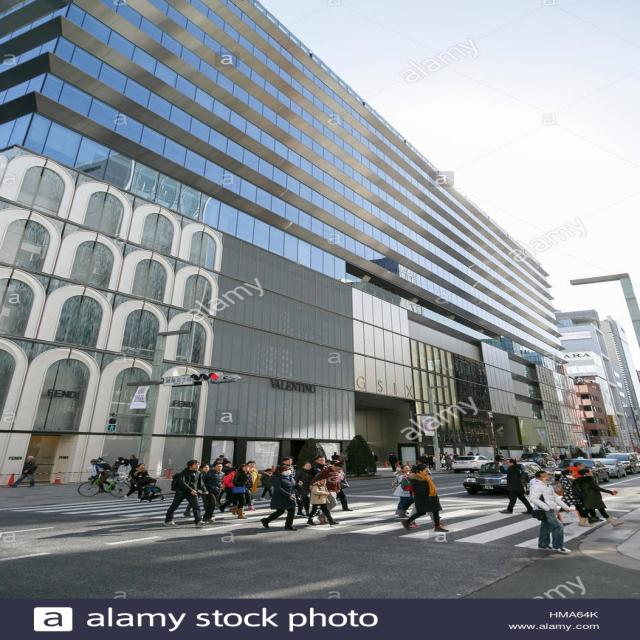body: (526, 470, 574, 554), (399, 463, 451, 532), (570, 467, 627, 528), (162, 459, 210, 528), (258, 464, 304, 531), (308, 462, 344, 524), (498, 458, 534, 514), (304, 475, 342, 527), (556, 468, 589, 520), (198, 462, 226, 522), (227, 463, 255, 520), (182, 463, 211, 518), (329, 459, 354, 512), (293, 462, 317, 517), (389, 464, 412, 517), (218, 466, 242, 514), (122, 463, 150, 502), (8, 455, 39, 488), (90, 458, 118, 494), (408, 500, 444, 528), (217, 460, 234, 507), (258, 467, 277, 501), (84, 457, 106, 485), (245, 460, 261, 495), (476, 462, 518, 475), (275, 456, 297, 478), (309, 455, 328, 478), (563, 461, 585, 479), (140, 480, 161, 496), (116, 458, 132, 478), (127, 454, 139, 478), (367, 451, 380, 471), (387, 452, 398, 472), (110, 457, 124, 472), (426, 454, 436, 471), (212, 454, 228, 464), (444, 456, 454, 471), (418, 453, 430, 464), (331, 452, 341, 461), (494, 452, 504, 461), (439, 454, 445, 468), (588, 451, 600, 457), (559, 452, 566, 462), (467, 451, 482, 455), (551, 452, 557, 461), (212, 459, 224, 463), (444, 453, 460, 456), (431, 454, 435, 462), (338, 454, 343, 460), (460, 452, 466, 456), (438, 453, 444, 456), (425, 454, 430, 457), (495, 452, 499, 455), (444, 451, 448, 453)
